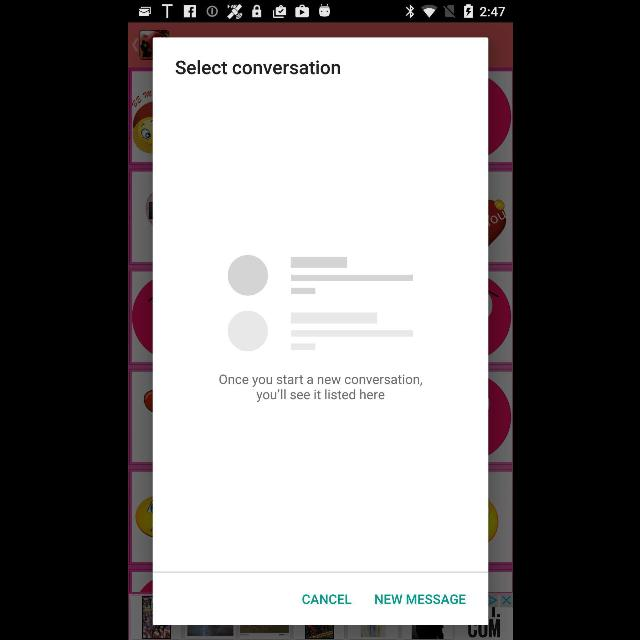image: (228, 256, 412, 350)
panel: (152, 38, 488, 624)
text: (219, 375, 421, 403), (174, 61, 340, 75), (375, 594, 465, 604), (302, 594, 351, 604)
uppertaskbar: (128, 1, 512, 23)
